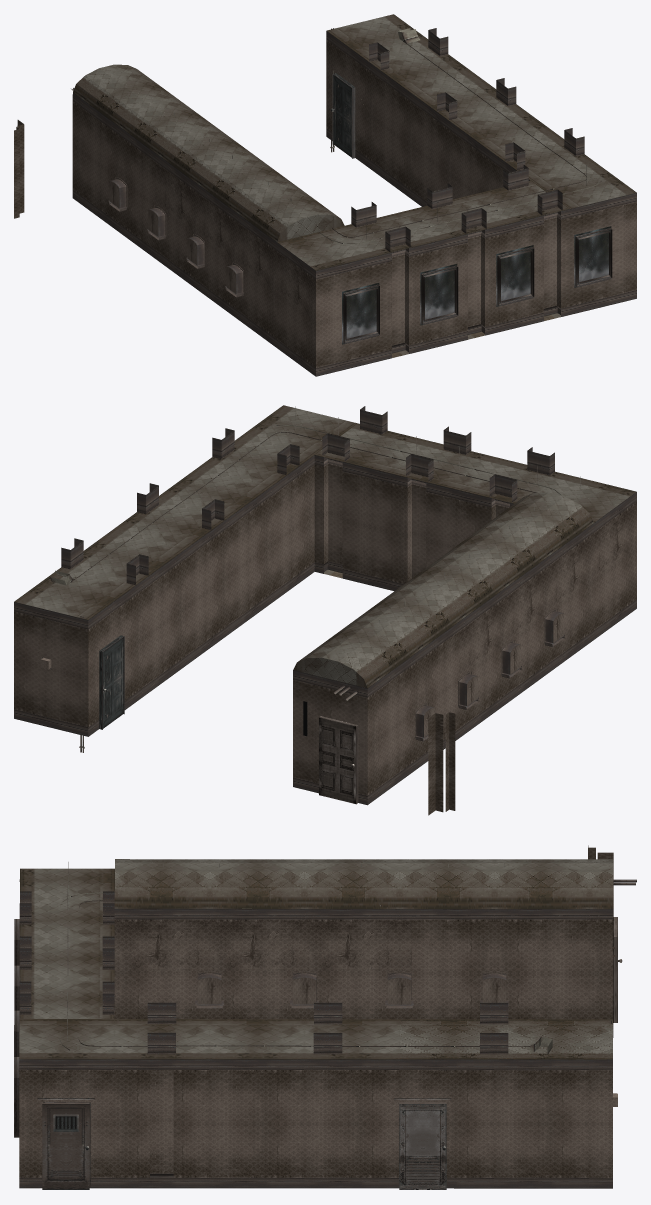
File: REO_RPD corridor.obj
3 views of the same model, one above another, from view 1: azimuth 30°, elevation 25°; view 2: azimuth 150°, elevation 25°; view 3: azimuth 270°, elevation 25° (orthographic). The views are drawn at different scales.
Parts seen in each view (by area): view 1: Object.006_Mesh.006, Object.038_Mesh.038, Object.022_Mesh.022, Object.033_Mesh.033, Object.000_Mesh.000, Object.028_Mesh.028, Object.035_Mesh.035, Object.027_Mesh.027, Object.031_Mesh.031, Object.019_Mesh.019, Object.032_Mesh.032, Object.029_Mesh.029; view 2: Object.006_Mesh.006, Object.038_Mesh.038, Object.022_Mesh.022, Object.033_Mesh.033, Object.028_Mesh.028, Object.004_Mesh.004, Object.032_Mesh.032, Object.027_Mesh.027, Object.031_Mesh.031, Object.019_Mesh.019, Object.029_Mesh.029; view 3: Object.006_Mesh.006, Object.038_Mesh.038, Object.022_Mesh.022, Object.033_Mesh.033, Object.028_Mesh.028, Object.013_Mesh.013, Object.002_Mesh.002, Object.029_Mesh.029, Object.035_Mesh.035, Object.031_Mesh.031, Object.019_Mesh.019, Object.004_Mesh.004.
Boxes of the visible parts, x1,y1,x2,y2 form: Object.006_Mesh.006: (72,40,636,367); Object.038_Mesh.038: (73,14,636,270); Object.022_Mesh.022: (72,31,636,376); Object.033_Mesh.033: (155,162,315,323); Object.000_Mesh.000: (342,226,611,344); Object.028_Mesh.028: (351,28,584,353); Object.035_Mesh.035: (343,228,612,343); Object.027_Mesh.027: (331,73,354,157); Object.031_Mesh.031: (108,177,243,297); Object.019_Mesh.019: (319,28,601,244); Object.032_Mesh.032: (14,120,24,218); Object.029_Mesh.029: (109,181,235,293); Object.006_Mesh.006: (14,464,636,795); Object.038_Mesh.038: (14,405,636,688); Object.022_Mesh.022: (14,455,636,805); Object.033_Mesh.033: (459,501,636,678); Object.028_Mesh.028: (61,406,554,585); Object.004_Mesh.004: (319,716,357,803); Object.032_Mesh.032: (428,712,455,815); Object.027_Mesh.027: (99,635,123,729); Object.031_Mesh.031: (415,608,564,741); Object.019_Mesh.019: (50,425,561,585); Object.029_Mesh.029: (424,613,563,737); Object.006_Mesh.006: (19,919,617,1177); Object.038_Mesh.038: (19,859,613,1059); Object.022_Mesh.022: (19,908,613,1188); Object.033_Mesh.033: (114,919,411,973); Object.028_Mesh.028: (19,891,508,1177); Object.013_Mesh.013: (399,1102,446,1189); Object.002_Mesh.002: (42,1102,89,1189); Object.029_Mesh.029: (197,977,506,1004); Object.035_Mesh.035: (14,919,19,1137); Object.031_Mesh.031: (195,971,508,1008); Object.019_Mesh.019: (59,892,552,1054); Object.004_Mesh.004: (613,917,622,1022).
Bounding box in the file's own units: 13.18 × 4.56 × 14.75.
Materials: 39 (39 with a texture image).
